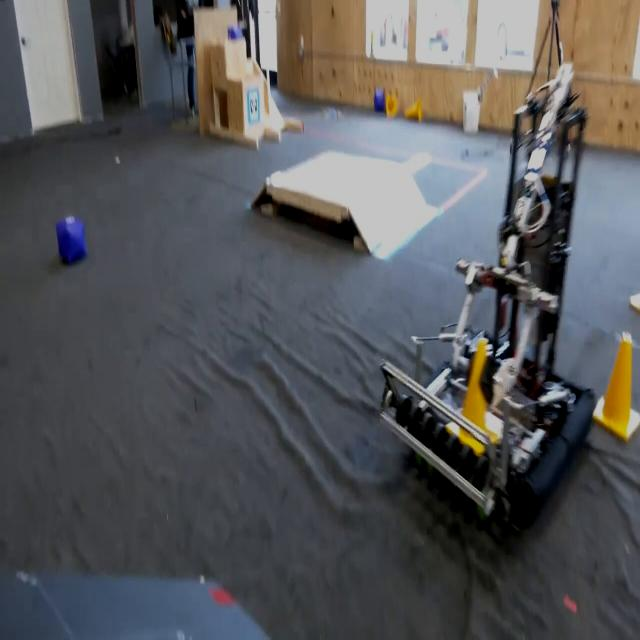frc_cone: (455, 324, 497, 460), (600, 334, 640, 446), (387, 92, 399, 124), (405, 106, 425, 122)
frc_cube: (56, 212, 86, 271), (227, 22, 245, 54), (371, 87, 386, 120)
